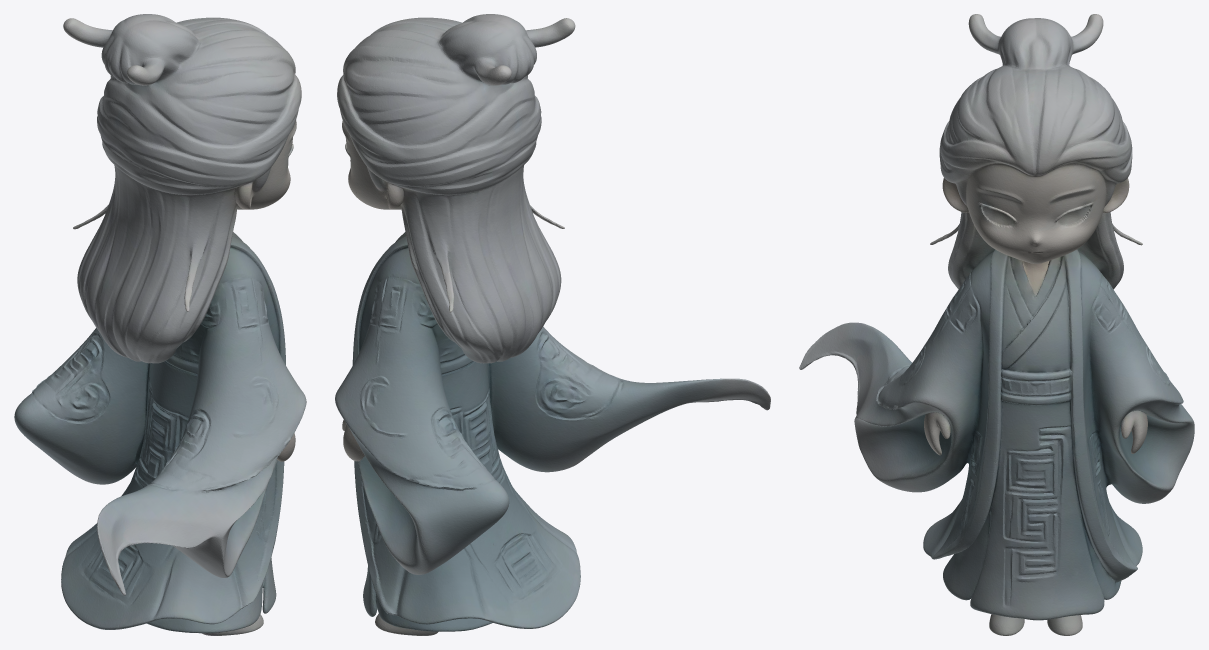
The model's file is 1_soft.glb.
The picture shows the model from 3 angles, left to right: view 1: azimuth 30°, elevation 25°; view 2: azimuth 150°, elevation 25°; view 3: azimuth 270°, elevation 25°; orthographic projection. The views are drawn at different scales.
Visible parts, largest first — view 1: tripo_node_09ce6b5b-4274-44be-8041-25db5cfec72c; view 2: tripo_node_09ce6b5b-4274-44be-8041-25db5cfec72c; view 3: tripo_node_09ce6b5b-4274-44be-8041-25db5cfec72c.
Boxes of the visible parts, <box> form: tripo_node_09ce6b5b-4274-44be-8041-25db5cfec72c: <box>14,14,306,635</box>; tripo_node_09ce6b5b-4274-44be-8041-25db5cfec72c: <box>335,14,770,635</box>; tripo_node_09ce6b5b-4274-44be-8041-25db5cfec72c: <box>799,14,1194,635</box>.
Size of the model in its own units: 0.5091 by 1 by 0.63.
1 material, 1 textured.
